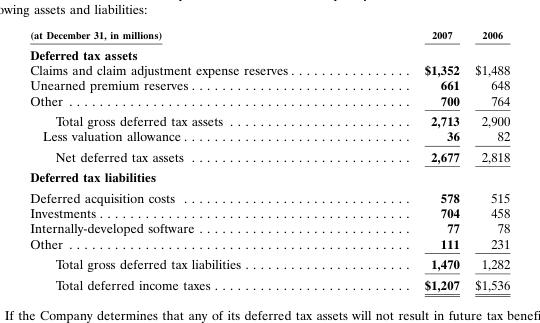table: (29, 28, 509, 291)
table column: (29, 28, 358, 291), (358, 28, 466, 291), (466, 28, 509, 291)
table column header: (29, 28, 509, 43)
table projected row header: (29, 166, 509, 186), (29, 43, 509, 61)
table row: (29, 146, 509, 166), (29, 166, 509, 186), (29, 253, 509, 273), (29, 43, 509, 61), (29, 92, 509, 110), (29, 110, 509, 128), (29, 128, 509, 146), (29, 186, 509, 204), (29, 235, 509, 253), (29, 273, 509, 291), (29, 61, 509, 77), (29, 204, 509, 220), (29, 28, 509, 43), (29, 77, 509, 92), (29, 220, 509, 235)
